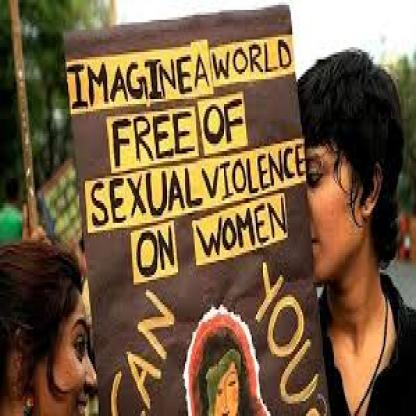BANNER: (64, 5, 337, 416)
